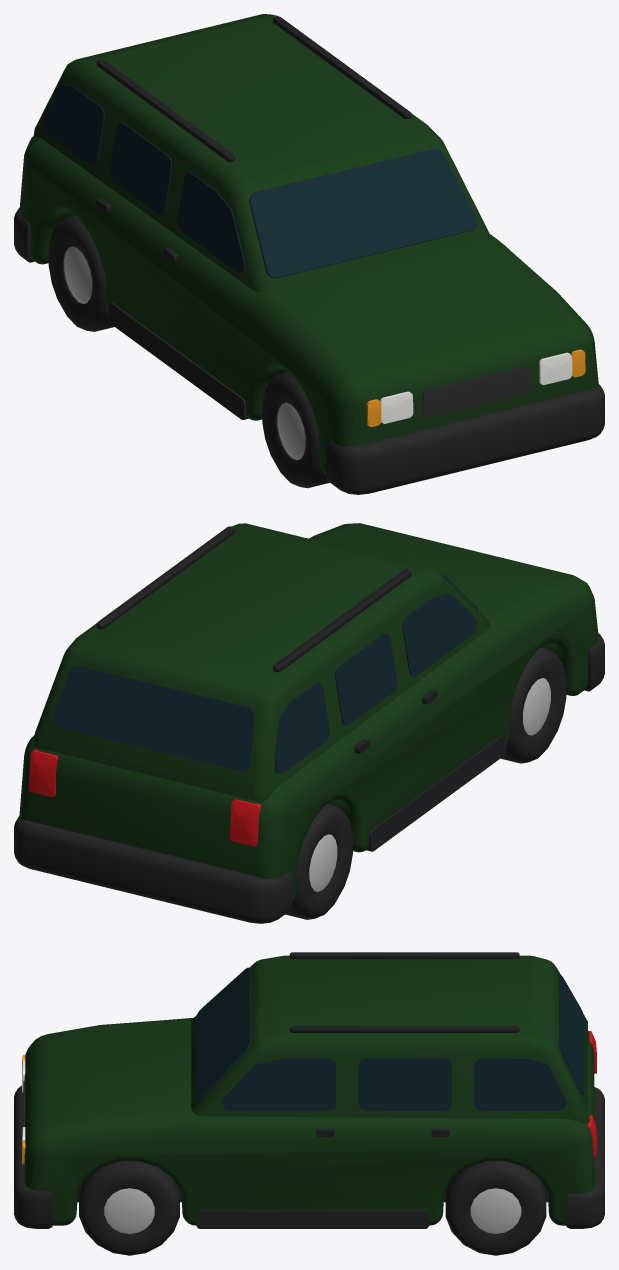
Rendered from car_suv.glb.
3 views of the same model, one above another, from view 1: azimuth 30°, elevation 25°; view 2: azimuth 150°, elevation 25°; view 3: azimuth 270°, elevation 25° (orthographic). The views are drawn at different scales.
Visible parts, largest first — view 1: body, wheel_front_right, wheel_rear_right; view 2: body, wheel_rear_right, wheel_front_right; view 3: body, wheel_rear_left, wheel_front_left.
Boxes of the visible parts, bbox=[...] form: body: bbox=[14, 14, 604, 494]; wheel_front_right: bbox=[262, 371, 329, 488]; wheel_rear_right: bbox=[48, 215, 114, 331]; body: bbox=[14, 523, 604, 923]; wheel_rear_right: bbox=[285, 803, 352, 919]; wheel_front_right: bbox=[501, 647, 566, 763]; body: bbox=[14, 952, 604, 1228]; wheel_rear_left: bbox=[445, 1161, 546, 1255]; wheel_front_left: bbox=[79, 1161, 179, 1255].
Size of the model in its own units: 2 by 1.82 by 4.5.
